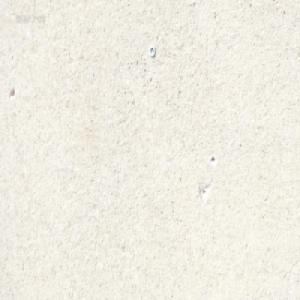Washer: (149, 45, 155, 57)
